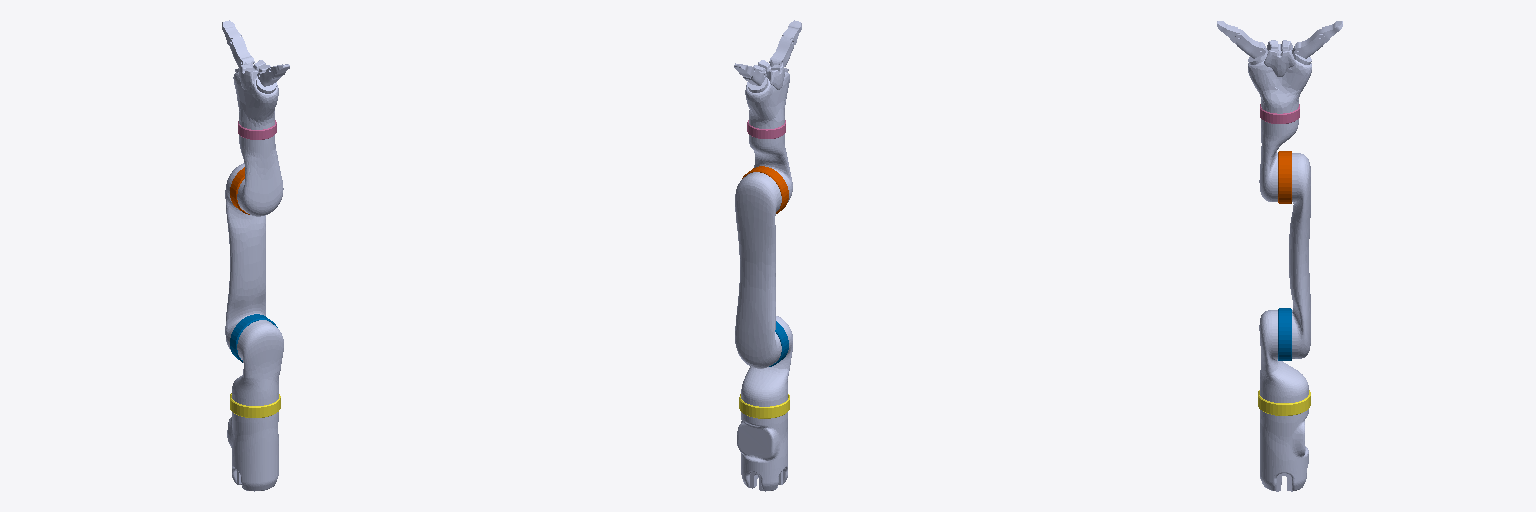
URDF robot description (m1n4s200):
<?xml version="1.0" ?>
<!-- =================================================================================== -->
<!-- |    This document was autogenerated by xacro from urdf/m1n4s200_standalone.xacro | -->
<!-- |    EDITING THIS FILE BY HAND IS NOT RECOMMENDED                                 | -->
<!-- =================================================================================== -->
<!-- m1n4_2 refers to mico v1 6DOF non-spherical 2fingers -->
<robot name="m1n4s200" xmlns:body="http://playerstage.sourceforge.net/gazebo/xmlschema/#body" xmlns:controller="http://playerstage.sourceforge.net/gazebo/xmlschema/#controller" xmlns:gazebo="http://playerstage.sourceforge.net/gazebo/xmlschema/#gz" xmlns:geom="http://playerstage.sourceforge.net/gazebo/xmlschema/#geom" xmlns:interface="http://playerstage.sourceforge.net/gazebo/xmlschema/#interface" xmlns:joint="http://playerstage.sourceforge.net/gazebo/xmlschema/#joint" xmlns:model="http://playerstage.sourceforge.net/gazebo/xmlschema/#model" xmlns:physics="http://playerstage.sourceforge.net/gazebo/xmlschema/#physics" xmlns:renderable="http://playerstage.sourceforge.net/gazebo/xmlschema/#renderable" xmlns:rendering="http://playerstage.sourceforge.net/gazebo/xmlschema/#rendering" xmlns:sensor="http://playerstage.sourceforge.net/gazebo/xmlschema/#sensor" xmlns:xi="http://www.w3.org/2001/XInclude">
  <!-- links      		mesh_no
   base           		0
   shoulder       		1
   arm            		2
   forearm        		3
   wrist          		4
   arm_mico       		5
   arm_half1 (7dof)		6
   arm_half2 (7dof)		7
   wrist_spherical_1  8
   wrist_spherical_2  9

   hand 3 finger  		55
   hand_2finger   		56
   finger_proximal		57
   finger_distal      58
-->
  <!-- links      		mesh_no
   base           		0
   shoulder       		1
   arm            		2
   forearm        		3
   wrist          		4
   arm_mico       		5
   arm_half1 (7dof)		6
   arm_half2 (7dof)		7
   wrist_spherical_1  8
   wrist_spherical_2  9

   hand 3 finger  		55
   hand_2finger   		56
   finger_proximal		57
   finger_distal      58
-->
  <link name="root"/>
  <!-- for gazebo -->
  <link name="world"/>
  <joint name="connect_root_and_world" type="fixed">
    <child link="root"/>
    <parent link="world"/>
    <origin rpy="0 0 0" xyz="0 0 0"/>
  </joint>
  <!-- ros_control plugin -->
  <gazebo>
    <plugin filename="libgazebo_ros_control.so" name="gazebo_ros_control">
      <robotNamespace>m1n4s200</robotNamespace>
      <robotSimType>gazebo_ros_control/DefaultRobotHWSim</robotSimType>
      <legacyModeNS>true</legacyModeNS>
    </plugin>
  </gazebo>
  <link name="m1n4s200_link_base">
    <visual>
      <geometry>
        <mesh filename="package://kinova_description/meshes/base.stl"/>
      </geometry>
      <material name="carbon_fiber">
        <color rgba="0.792156862745098 0.819607843137255 0.933333333333333 1"/>
      </material>
    </visual>
    <collision>
      <geometry>
        <mesh filename="package://kinova_description/meshes/base.stl"/>
      </geometry>
    </collision>
    <inertial>
      <mass value="0.46784"/>
      <origin rpy="0 0 0" xyz="0 0 0.1255"/>
      <inertia ixx="0.000951270861568" ixy="0" ixz="0" iyy="0.000951270861568" iyz="0" izz="0.00037427200000000004"/>
    </inertial>
  </link>
  <joint name="m1n4s200_joint_base" type="fixed">
    <parent link="root"/>
    <child link="m1n4s200_link_base"/>
    <axis xyz="0 0 0"/>
    <origin rpy="0 0 0" xyz="0 0 0"/>
    <dynamics damping="0.0" friction="0.0"/>
  </joint>
  <link name="m1n4s200_link_1">
    <visual>
      <geometry>
        <mesh filename="package://kinova_description/meshes/shoulder.stl"/>
      </geometry>
      <material name="carbon_fiber">
        <color rgba="0.792156862745098 0.819607843137255 0.933333333333333 1"/>
      </material>
    </visual>
    <visual>
      <geometry>
        <mesh filename="package://kinova_description/meshes/ring_big.stl"/>
      </geometry>
    </visual>
    <collision>
      <geometry>
        <mesh filename="package://kinova_description/meshes/shoulder.stl"/>
      </geometry>
    </collision>
    <inertial>
      <mass value="0.7477"/>
      <origin xyz="0 -0.002 -0.0605"/>
      <inertia ixx="0.0015203172520400004" ixy="0" ixz="0" iyy="0.0015203172520400004" iyz="0" izz="0.00059816"/>
    </inertial>
  </link>
  <joint name="m1n4s200_joint_1" type="continuous">
    <parent link="m1n4s200_link_base"/>
    <child link="m1n4s200_link_1"/>
    <axis xyz="0 0 1"/>
    <limit effort="40" velocity="0.6283185307179586"/>
    <origin rpy="0 3.141592653589793 0" xyz="0 0 0.15675"/>
    <dynamics damping="0.0" friction="0.0"/>
  </joint>
  <transmission name="m1n4s200_joint_1_trans">
    <type>transmission_interface/SimpleTransmission</type>
    <joint name="m1n4s200_joint_1">
      <hardwareInterface>hardware_interface/EffortJointInterface</hardwareInterface>
    </joint>
    <actuator name="m1n4s200_joint_1_actuator">
      <hardwareInterface>hardware_interface/EffortJointInterface</hardwareInterface>
      <mechanicalReduction>160</mechanicalReduction>
    </actuator>
  </transmission>
  <!--For torque sensing in simulation-->
  <gazebo reference="m1n4s200_joint_1">
    <provideFeedback>true</provideFeedback>
  </gazebo>
  <gazebo>
    <plugin filename="libgazebo_ros_ft_sensor.so" name="ft_sensor">
      <updateRate>30.0</updateRate>
      <topicName>m1n4s200_joint_1_ft_sensor_topic</topicName>
      <jointName>m1n4s200_joint_1</jointName>
    </plugin>
  </gazebo>
  <link name="m1n4s200_link_2">
    <visual>
      <geometry>
        <mesh filename="package://kinova_description/meshes/arm_mico.stl"/>
      </geometry>
      <material name="carbon_fiber">
        <color rgba="0.792156862745098 0.819607843137255 0.933333333333333 1"/>
      </material>
    </visual>
    <visual>
      <geometry>
        <mesh filename="package://kinova_description/meshes/ring_big.stl"/>
      </geometry>
    </visual>
    <collision>
      <geometry>
        <mesh filename="package://kinova_description/meshes/arm_mico.stl"/>
      </geometry>
    </collision>
    <inertial>
      <mass value="0.85968"/>
      <origin xyz="0 -0.145  -0.0076"/>
      <inertia ixx="0.004670909316288" ixy="0" ixz="0" iyy="0.00038685599999999993" iyz="0" izz="0.004670909316288"/>
    </inertial>
  </link>
  <joint name="m1n4s200_joint_2" type="revolute">
    <parent link="m1n4s200_link_1"/>
    <child link="m1n4s200_link_2"/>
    <axis xyz="0 0 1"/>
    <limit effort="80" lower="0.8726646259971648" upper="5.410520681182422" velocity="0.6283185307179586"/>
    <origin rpy="-1.5707963267948966 0 3.141592653589793" xyz="0 0.0016 -0.11875"/>
    <dynamics damping="0.0" friction="0.0"/>
  </joint>
  <transmission name="m1n4s200_joint_2_trans">
    <type>transmission_interface/SimpleTransmission</type>
    <joint name="m1n4s200_joint_2">
      <hardwareInterface>hardware_interface/EffortJointInterface</hardwareInterface>
    </joint>
    <actuator name="m1n4s200_joint_2_actuator">
      <hardwareInterface>hardware_interface/EffortJointInterface</hardwareInterface>
      <mechanicalReduction>160</mechanicalReduction>
    </actuator>
  </transmission>
  <!--For torque sensing in simulation-->
  <gazebo reference="m1n4s200_joint_2">
    <provideFeedback>true</provideFeedback>
  </gazebo>
  <gazebo>
    <plugin filename="libgazebo_ros_ft_sensor.so" name="ft_sensor">
      <updateRate>30.0</updateRate>
      <topicName>m1n4s200_joint_2_ft_sensor_topic</topicName>
      <jointName>m1n4s200_joint_2</jointName>
    </plugin>
  </gazebo>
  <link name="m1n4s200_link_3">
    <visual>
      <geometry>
        <mesh filename="package://kinova_description/meshes/forearm_mico.stl"/>
      </geometry>
      <material name="carbon_fiber">
        <color rgba="0.792156862745098 0.819607843137255 0.933333333333333 1"/>
      </material>
    </visual>
    <visual>
      <geometry>
        <mesh filename="package://kinova_description/meshes/ring_big.stl"/>
      </geometry>
    </visual>
    <collision>
      <geometry>
        <mesh filename="package://kinova_description/meshes/forearm_mico.stl"/>
      </geometry>
    </collision>
    <inertial>
      <mass value="0.606"/>
      <origin xyz="0 0.0463 -0.0065"/>
      <inertia ixx="0.0003837984648" ixy="0" ixz="0" iyy="0.0001212" iyz="0" izz="0.0003837984648"/>
    </inertial>
  </link>
  <joint name="m1n4s200_joint_3" type="revolute">
    <parent link="m1n4s200_link_2"/>
    <child link="m1n4s200_link_3"/>
    <axis xyz="0 0 1"/>
    <limit effort="40" lower="0.6108652381980153" upper="5.672320068981571" velocity="0.6283185307179586"/>
    <origin rpy="0 3.141592653589793 0" xyz="0 -0.290 0"/>
    <dynamics damping="0.0" friction="0.0"/>
  </joint>
  <transmission name="m1n4s200_joint_3_trans">
    <type>transmission_interface/SimpleTransmission</type>
    <joint name="m1n4s200_joint_3">
      <hardwareInterface>hardware_interface/EffortJointInterface</hardwareInterface>
    </joint>
    <actuator name="m1n4s200_joint_3_actuator">
      <hardwareInterface>hardware_interface/EffortJointInterface</hardwareInterface>
      <mechanicalReduction>160</mechanicalReduction>
    </actuator>
  </transmission>
  <!--For torque sensing in simulation-->
  <gazebo reference="m1n4s200_joint_3">
    <provideFeedback>true</provideFeedback>
  </gazebo>
  <gazebo>
    <plugin filename="libgazebo_ros_ft_sensor.so" name="ft_sensor">
      <updateRate>30.0</updateRate>
      <topicName>m1n4s200_joint_3_ft_sensor_topic</topicName>
      <jointName>m1n4s200_joint_3</jointName>
    </plugin>
  </gazebo>
  <link name="m1n4s200_link_4">
    <visual>
      <geometry>
        <mesh filename="package://kinova_description/meshes/hand_2finger.stl"/>
      </geometry>
      <material name="carbon_fiber">
        <color rgba="0.792156862745098 0.819607843137255 0.933333333333333 1"/>
      </material>
    </visual>
    <visual>
      <geometry>
        <mesh filename="package://kinova_description/meshes/ring_small.stl"/>
      </geometry>
    </visual>
    <collision>
      <geometry>
        <mesh filename="package://kinova_description/meshes/hand_2finger.stl"/>
      </geometry>
    </collision>
    <inertial>
      <mass value="0.78"/>
      <origin xyz="0 0 -0.06"/>
      <inertia ixx="0.00037049851799999997" ixy="0" ixz="0" iyy="0.00037049851799999997" iyz="0" izz="0.0006240000000000001"/>
    </inertial>
  </link>
  <joint name="m1n4s200_joint_4" type="continuous">
    <parent link="m1n4s200_link_3"/>
    <child link="m1n4s200_link_4"/>
    <axis xyz="0 0 1"/>
    <limit effort="20" velocity="0.8377580409572781"/>
    <origin rpy="-1.5707963267948966 0 3.141592653589793" xyz="0 0.1231 -0.0086"/>
    <dynamics damping="0.0" friction="0.0"/>
  </joint>
  <transmission name="m1n4s200_joint_4_trans">
    <type>transmission_interface/SimpleTransmission</type>
    <joint name="m1n4s200_joint_4">
      <hardwareInterface>hardware_interface/EffortJointInterface</hardwareInterface>
    </joint>
    <actuator name="m1n4s200_joint_4_actuator">
      <hardwareInterface>hardware_interface/EffortJointInterface</hardwareInterface>
      <mechanicalReduction>160</mechanicalReduction>
    </actuator>
  </transmission>
  <!--For torque sensing in simulation-->
  <gazebo reference="m1n4s200_joint_4">
    <provideFeedback>true</provideFeedback>
  </gazebo>
  <gazebo>
    <plugin filename="libgazebo_ros_ft_sensor.so" name="ft_sensor">
      <updateRate>30.0</updateRate>
      <topicName>m1n4s200_joint_4_ft_sensor_topic</topicName>
      <jointName>m1n4s200_joint_4</jointName>
    </plugin>
  </gazebo>
  <link name="m1n4s200_end_effector"/>
  <joint name="joint_end_effector" type="fixed">
    <parent link="m1n4s200_link_4"/>
    <child link="m1n4s200_end_effector"/>
    <axis xyz="0 0 0"/>
    <origin rpy="3.141592653589793 0 1.5707963267948966" xyz="0 0 -0.1600"/>
  </joint>
  <link name="m1n4s200_link_finger_1">
    <visual>
      <geometry>
        <mesh filename="package://kinova_description/meshes/finger_proximal.stl"/>
      </geometry>
      <material name="carbon_fiber">
        <color rgba="0.792156862745098 0.819607843137255 0.933333333333333 1"/>
      </material>
    </visual>
    <collision>
      <geometry>
        <mesh filename="package://kinova_description/meshes/finger_proximal.stl"/>
      </geometry>
    </collision>
    <inertial>
      <mass value="0.01"/>
      <origin xyz="0.022 0 0"/>
      <inertia ixx="7.8999684e-07" ixy="0" ixz="0" iyy="7.8999684e-07" iyz="0" izz="8e-08"/>
    </inertial>
  </link>
  <joint name="m1n4s200_joint_finger_1" type="revolute">
    <parent link="m1n4s200_link_4"/>
    <child link="m1n4s200_link_finger_1"/>
    <axis xyz="0 0 1"/>
    <origin rpy="-1.570796327 .649262481663582 1.57079632679490" xyz="-0.0025 0.03095 -0.11482"/>
    <limit effort="2" lower="0" upper="1.51" velocity="1"/>
  </joint>
  <transmission name="m1n4s200_joint_finger_1_trans">
    <type>transmission_interface/SimpleTransmission</type>
    <joint name="m1n4s200_joint_finger_1">
      <hardwareInterface>hardware_interface/EffortJointInterface</hardwareInterface>
    </joint>
    <actuator name="m1n4s200_joint_finger_1_actuator">
      <hardwareInterface>hardware_interface/EffortJointInterface</hardwareInterface>
      <mechanicalReduction>1</mechanicalReduction>
    </actuator>
  </transmission>
  <link name="m1n4s200_link_finger_tip_1">
    <visual>
      <geometry>
        <mesh filename="package://kinova_description/meshes/finger_distal.stl"/>
      </geometry>
      <material name="carbon_fiber">
        <color rgba="0.792156862745098 0.819607843137255 0.933333333333333 1"/>
      </material>
    </visual>
    <collision>
      <geometry>
        <mesh filename="package://kinova_description/meshes/finger_distal.stl"/>
      </geometry>
    </collision>
    <inertial>
      <mass value="0.01"/>
      <origin xyz="0.022 0 0"/>
      <inertia ixx="7.8999684e-07" ixy="0" ixz="0" iyy="7.8999684e-07" iyz="0" izz="8e-08"/>
    </inertial>
  </link>
  <joint name="m1n4s200_joint_finger_tip_1" type="revolute">
    <parent link="m1n4s200_link_finger_1"/>
    <child link="m1n4s200_link_finger_tip_1"/>
    <axis xyz="0 0 1"/>
    <origin rpy="0 0 0" xyz="0.044 -0.003 0"/>
    <limit effort="2" lower="0" upper="2" velocity="1"/>
  </joint>
  <transmission name="m1n4s200_joint_finger_tip_1_trans">
    <type>transmission_interface/SimpleTransmission</type>
    <joint name="m1n4s200_joint_finger_tip_1">
      <hardwareInterface>hardware_interface/EffortJointInterface</hardwareInterface>
    </joint>
    <actuator name="m1n4s200_joint_finger_tip_1_actuator">
      <hardwareInterface>hardware_interface/EffortJointInterface</hardwareInterface>
      <mechanicalReduction>1</mechanicalReduction>
    </actuator>
  </transmission>
  <link name="m1n4s200_link_finger_2">
    <visual>
      <geometry>
        <mesh filename="package://kinova_description/meshes/finger_proximal.stl"/>
      </geometry>
      <material name="carbon_fiber">
        <color rgba="0.792156862745098 0.819607843137255 0.933333333333333 1"/>
      </material>
    </visual>
    <collision>
      <geometry>
        <mesh filename="package://kinova_description/meshes/finger_proximal.stl"/>
      </geometry>
    </collision>
    <inertial>
      <mass value="0.01"/>
      <origin xyz="0.022 0 0"/>
      <inertia ixx="7.8999684e-07" ixy="0" ixz="0" iyy="7.8999684e-07" iyz="0" izz="8e-08"/>
    </inertial>
  </link>
  <joint name="m1n4s200_joint_finger_2" type="revolute">
    <parent link="m1n4s200_link_4"/>
    <child link="m1n4s200_link_finger_2"/>
    <axis xyz="0 0 1"/>
    <origin rpy="-1.570796327 .649262481663582 -1.57079632679490" xyz="-0.0025 -0.03095 -0.11482"/>
    <limit effort="2" lower="0" upper="1.51" velocity="1"/>
  </joint>
  <transmission name="m1n4s200_joint_finger_2_trans">
    <type>transmission_interface/SimpleTransmission</type>
    <joint name="m1n4s200_joint_finger_2">
      <hardwareInterface>hardware_interface/EffortJointInterface</hardwareInterface>
    </joint>
    <actuator name="m1n4s200_joint_finger_2_actuator">
      <hardwareInterface>hardware_interface/EffortJointInterface</hardwareInterface>
      <mechanicalReduction>1</mechanicalReduction>
    </actuator>
  </transmission>
  <link name="m1n4s200_link_finger_tip_2">
    <visual>
      <geometry>
        <mesh filename="package://kinova_description/meshes/finger_distal.stl"/>
      </geometry>
      <material name="carbon_fiber">
        <color rgba="0.792156862745098 0.819607843137255 0.933333333333333 1"/>
      </material>
    </visual>
    <collision>
      <geometry>
        <mesh filename="package://kinova_description/meshes/finger_distal.stl"/>
      </geometry>
    </collision>
    <inertial>
      <mass value="0.01"/>
      <origin xyz="0.022 0 0"/>
      <inertia ixx="7.8999684e-07" ixy="0" ixz="0" iyy="7.8999684e-07" iyz="0" izz="8e-08"/>
    </inertial>
  </link>
  <joint name="m1n4s200_joint_finger_tip_2" type="revolute">
    <parent link="m1n4s200_link_finger_2"/>
    <child link="m1n4s200_link_finger_tip_2"/>
    <axis xyz="0 0 1"/>
    <origin rpy="0 0 0" xyz="0.044 -0.003 0"/>
    <limit effort="2" lower="0" upper="2" velocity="1"/>
  </joint>
  <transmission name="m1n4s200_joint_finger_tip_2_trans">
    <type>transmission_interface/SimpleTransmission</type>
    <joint name="m1n4s200_joint_finger_tip_2">
      <hardwareInterface>hardware_interface/EffortJointInterface</hardwareInterface>
    </joint>
    <actuator name="m1n4s200_joint_finger_tip_2_actuator">
      <hardwareInterface>hardware_interface/EffortJointInterface</hardwareInterface>
      <mechanicalReduction>1</mechanicalReduction>
    </actuator>
  </transmission>
</robot>

--- What the picture shows (computed from the rendered views, not written in the file) ---
Views: 3 orthographic renders of the robot side by side, from view 1: azimuth 30°, elevation 25°; view 2: azimuth 150°, elevation 25°; view 3: azimuth 270°, elevation 25°.
Robot: m1n4s200 — 12 links, 11 joints (6 revolute, 2 continuous, 3 fixed); root link world; default pose: joints at zero except 2 at the middle of their limits (m1n4s200_joint_2 = 3.14, m1n4s200_joint_3 = 3.14).
Visible links, largest first — view 1: m1n4s200_link_2, m1n4s200_link_1, m1n4s200_link_base, m1n4s200_link_3, m1n4s200_link_4; view 2: m1n4s200_link_2, m1n4s200_link_base, m1n4s200_link_4, m1n4s200_link_1, m1n4s200_link_3; view 3: m1n4s200_link_2, m1n4s200_link_4, m1n4s200_link_base, m1n4s200_link_1, m1n4s200_link_3.
Boxes of the visible links, box(x1,y1,x2,y2) form: m1n4s200_link_2: box(225, 163, 277, 362); m1n4s200_link_1: box(230, 320, 283, 417); m1n4s200_link_base: box(227, 412, 278, 491); m1n4s200_link_3: box(230, 135, 283, 216); m1n4s200_link_4: box(233, 60, 278, 139); m1n4s200_link_2: box(735, 172, 788, 368); m1n4s200_link_base: box(737, 412, 787, 491); m1n4s200_link_4: box(745, 58, 789, 138); m1n4s200_link_1: box(739, 316, 792, 418); m1n4s200_link_3: box(742, 134, 792, 213); m1n4s200_link_2: box(1278, 153, 1310, 360); m1n4s200_link_4: box(1248, 40, 1311, 123); m1n4s200_link_base: box(1260, 409, 1308, 491); m1n4s200_link_1: box(1258, 310, 1310, 415); m1n4s200_link_3: box(1259, 119, 1298, 203).
Size in the robot's own frame: 0.0889 by 0.2123 by 0.851 metres.
Meshes: 9 distinct files referenced, 13 mesh visuals loaded (9 binary STL).
